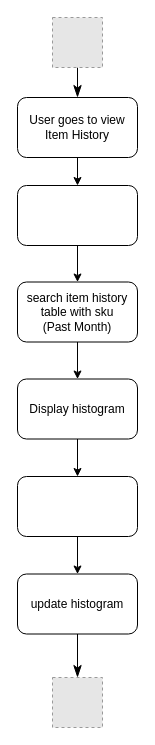
Image size: 155x745. Some labels were removed from this diagram. Grey dashed boxes stand in for pictures. Here are the shapes that lost their labels. From the top down, the centre of each, then its label:
[77,215]: Select Item
[77,506]: User selects date range
